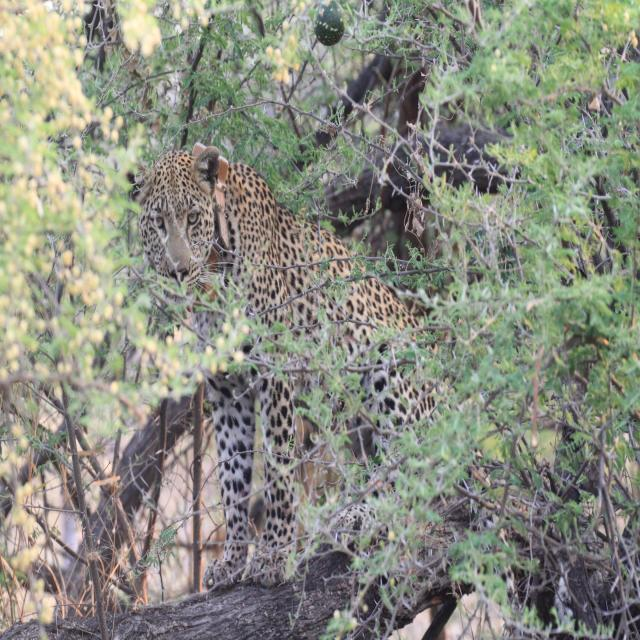Leopard: (123, 113, 527, 623)
